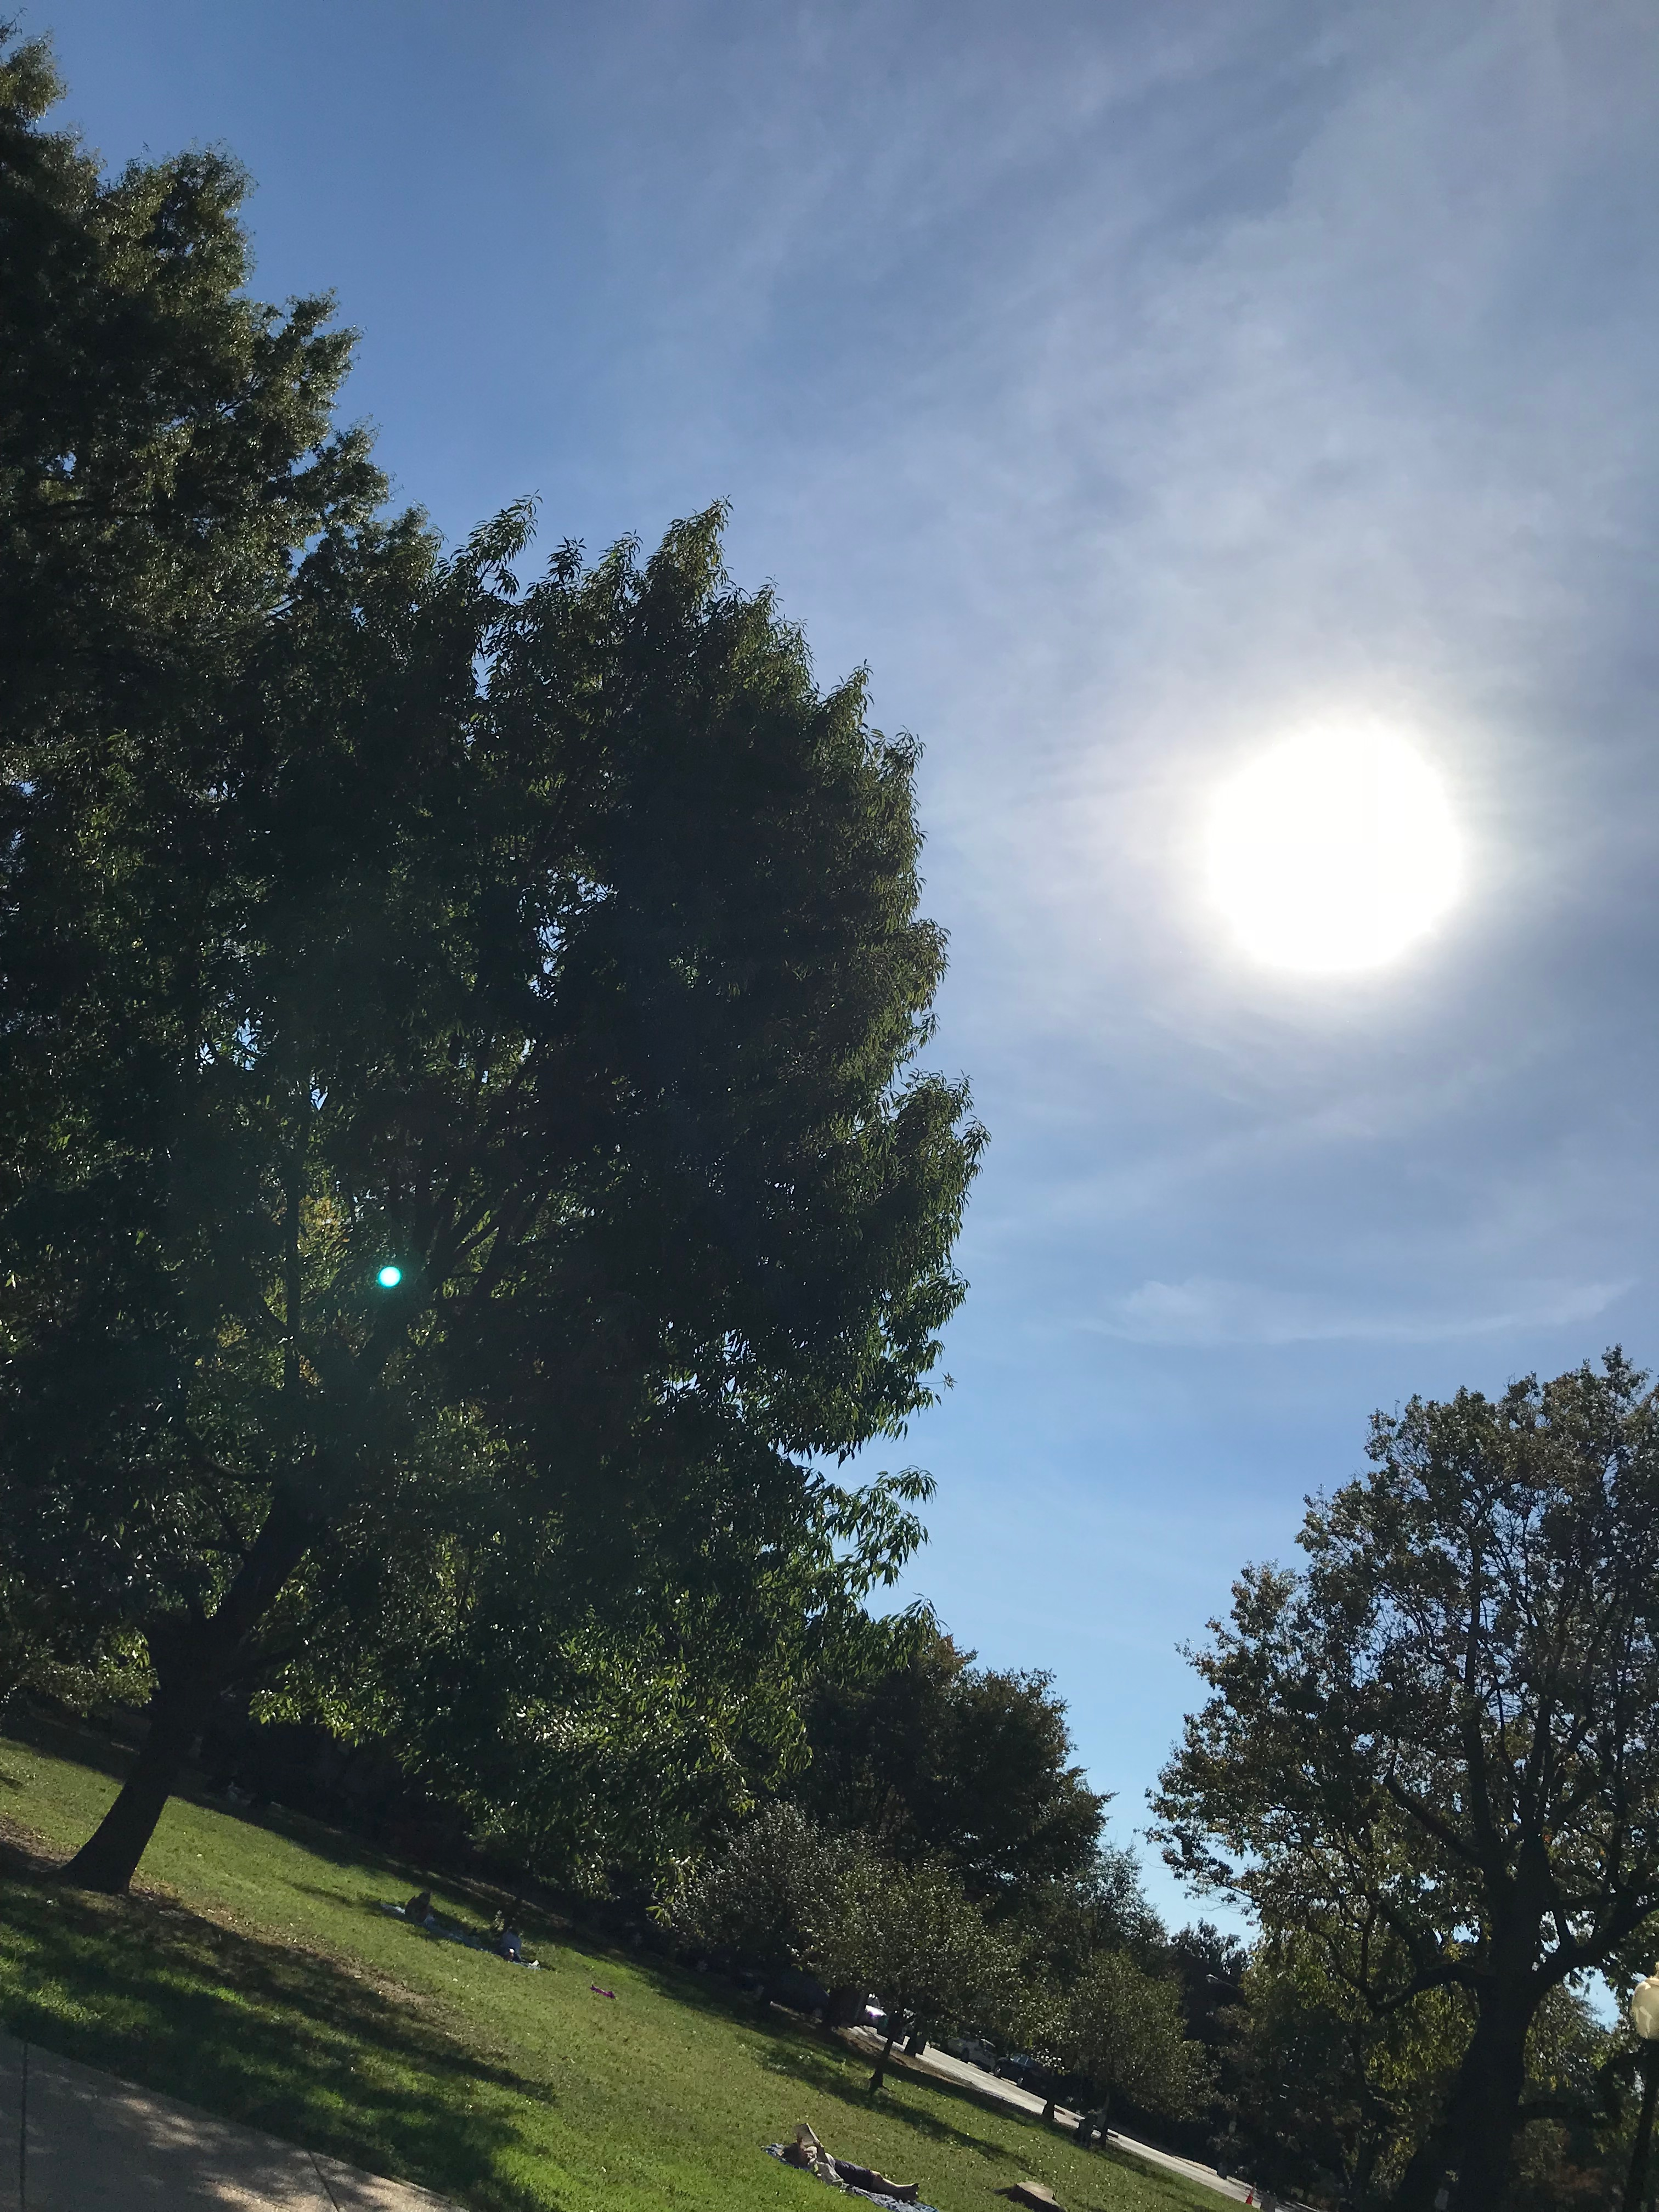flare: (376, 1263, 404, 1291)
